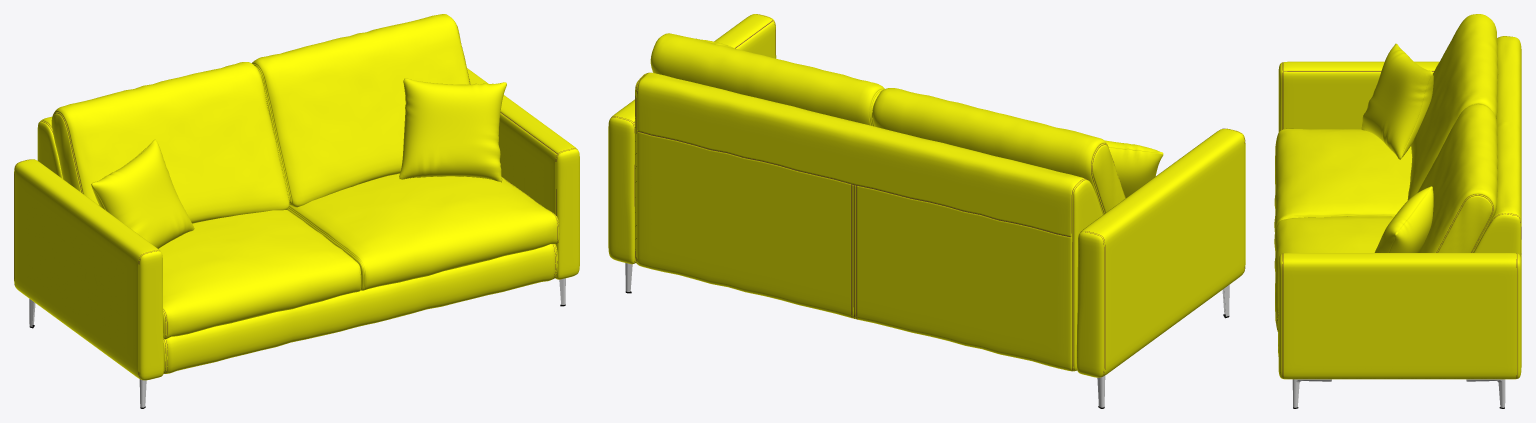
The picture shows the model from 3 angles, left to right: view 1: azimuth 30°, elevation 25°; view 2: azimuth 150°, elevation 25°; view 3: azimuth 270°, elevation 25°; orthographic projection. The views are drawn at different scales.
Visible parts, largest first — view 1: bodyred54, leftarm54, rightarm54, metaleg54; view 2: bodyred54, leftarm54, rightarm54, metaleg54; view 3: bodyred54, rightarm54, leftarm54, metaleg54.
Boxes of the visible parts, x1=… form: bodyred54: x1=37, y1=14, x2=559, y2=373; leftarm54: x1=14, y1=159, x2=163, y2=380; rightarm54: x1=467, y1=68, x2=579, y2=279; metaleg54: x1=29, y1=278, x2=565, y2=408; bodyred54: x1=635, y1=33, x2=1163, y2=371; leftarm54: x1=1076, y1=128, x2=1245, y2=377; rightarm54: x1=608, y1=14, x2=776, y2=264; metaleg54: x1=625, y1=263, x2=1229, y2=408; bodyred54: x1=1274, y1=14, x2=1521, y2=356; rightarm54: x1=1278, y1=253, x2=1521, y2=379; leftarm54: x1=1278, y1=61, x2=1439, y2=131; metaleg54: x1=1292, y1=379, x2=1505, y2=408.
Bounding box in the file's own units: 1.8 × 0.8768 × 0.9321.
8 materials, 5 textured.
